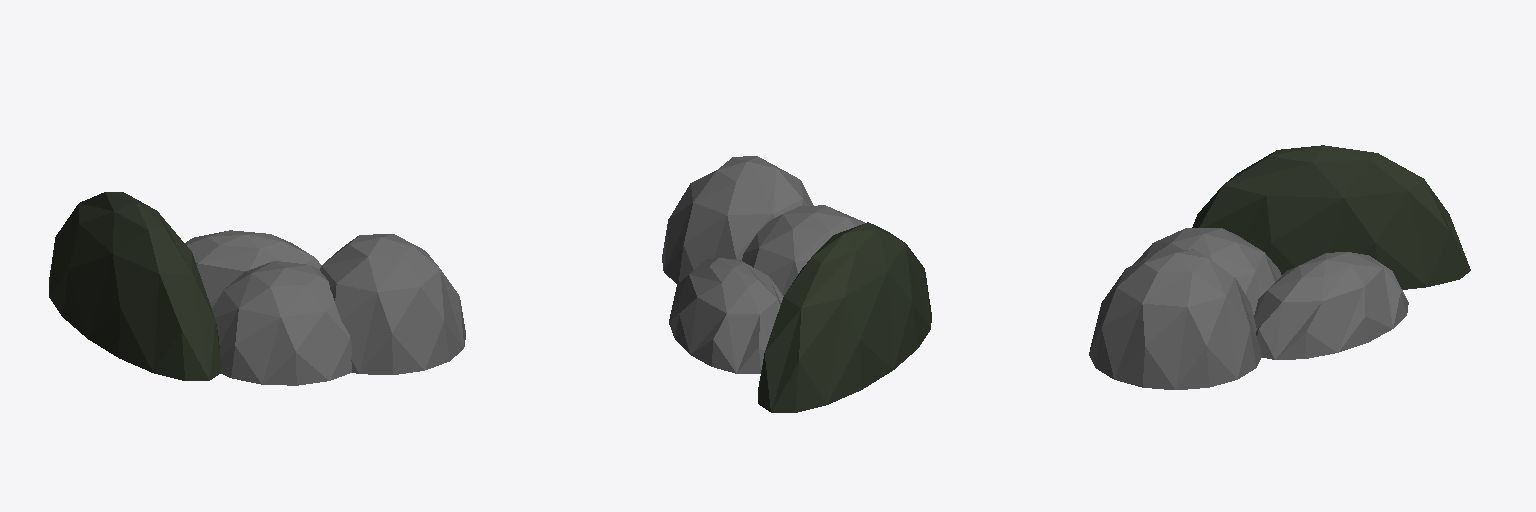
The model's file is stein3.obj.
3 renders of one model, left to right at view 1: azimuth 30°, elevation 25°; view 2: azimuth 150°, elevation 25°; view 3: azimuth 270°, elevation 25°, orthographic.
Visible parts, largest first — view 1: Kugel, Kugel_1, Kugel_3, Kugel_2; view 2: Kugel, Kugel_1, Kugel_2, Kugel_3; view 3: Kugel, Kugel_1, Kugel_2, Kugel_3.
Boxes of the visible parts, <box> form: Kugel: <box>49,192,220,380</box>; Kugel_1: <box>320,234,465,374</box>; Kugel_3: <box>212,261,351,385</box>; Kugel_2: <box>185,230,321,307</box>; Kugel: <box>758,222,931,412</box>; Kugel_1: <box>662,156,813,283</box>; Kugel_2: <box>669,258,783,373</box>; Kugel_3: <box>742,205,864,295</box>; Kugel: <box>1192,145,1470,289</box>; Kugel_1: <box>1089,249,1261,389</box>; Kugel_2: <box>1254,252,1408,359</box>; Kugel_3: <box>1134,228,1281,314</box>.
Size of the model in its own units: 382 by 156 by 430.